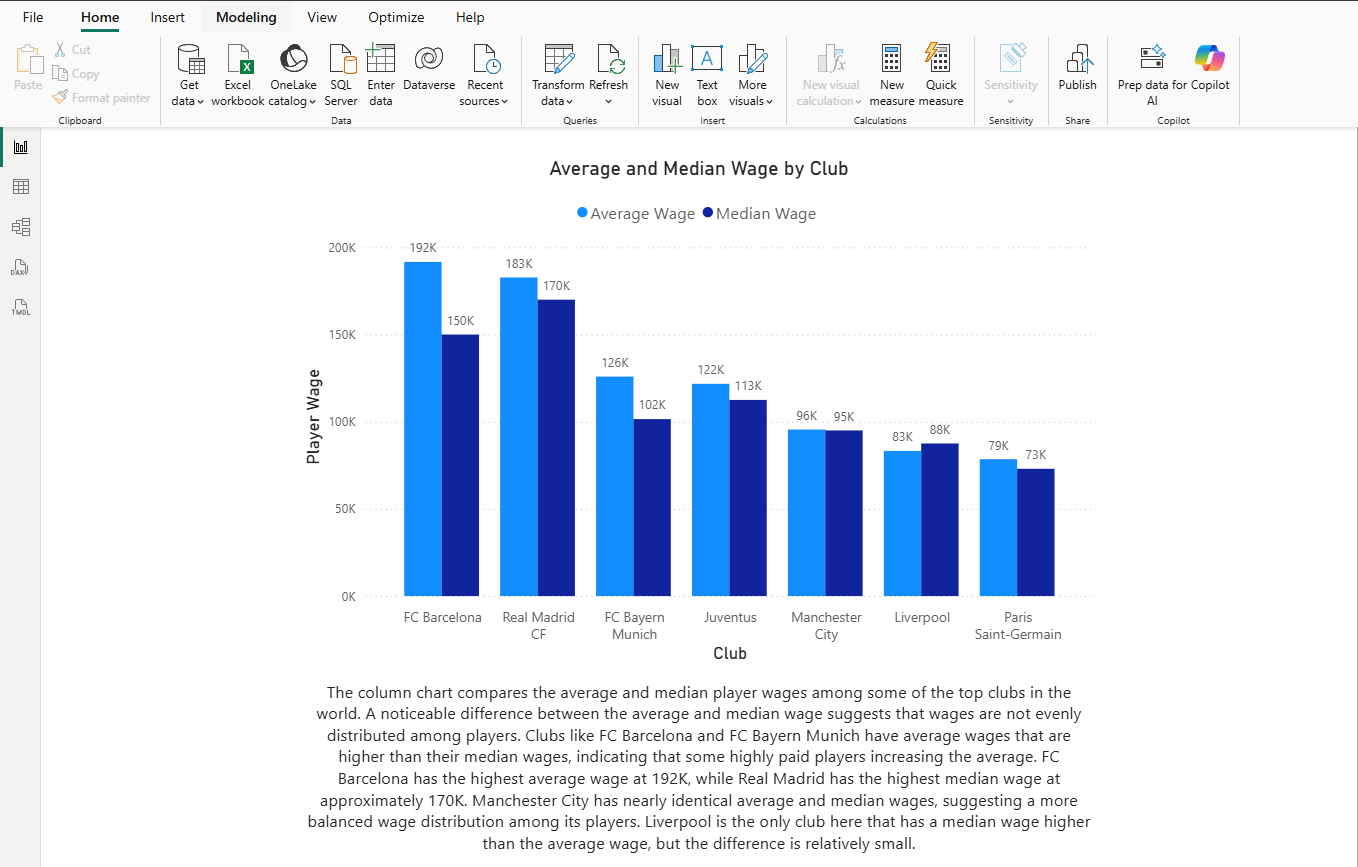

Layout of this report page (visuals, bound fields, positions):
{"tool":"powerbi","page":{"name":"Page 10","canvas":[1280,720],"ordinal":9},"visuals":[{"type":"clusteredColumnChart","title":"Average and Median Wage by Club","fields":{"Category":["CompleteDataset.Club"],"Y":["Avg(CompleteDataset.Wage - Numerical)","Median(CompleteDataset.Wage - Numerical)"]},"box":[250,28.2,780.1,497],"z":0},{"type":"textbox","box":[250,533,780.1,179],"z":1}]}

Visuals, with their boxes on the page's 1280x720 design canvas (x1, y1, x2, y2). These are canvas units, not pixel positions in the 1358x867 screenshot, which may show the page scaled, cropped or inside an application window:
"Average and Median Wage by Club" clusteredColumnChart: 250, 28, 1030, 525
textbox: 250, 533, 1030, 712
